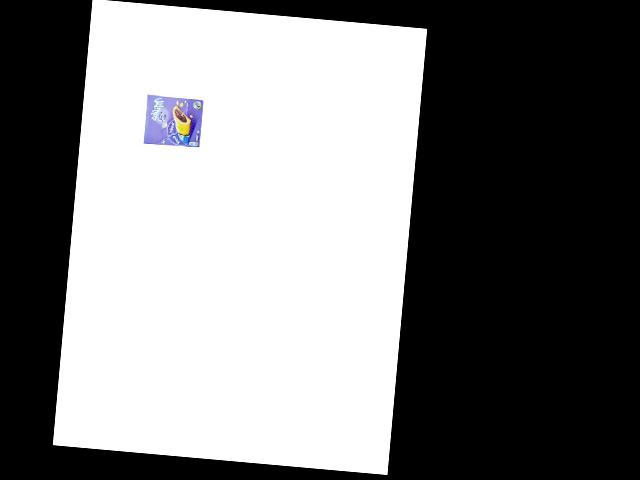chocolate: (139, 91, 207, 150)
